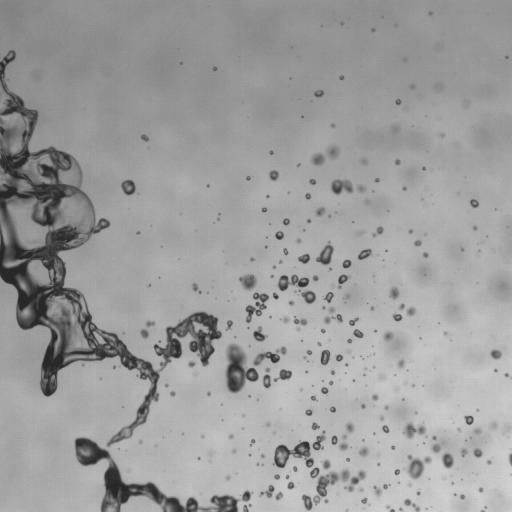droplet: (402, 454, 432, 487), (315, 240, 334, 265), (402, 421, 427, 439), (330, 179, 353, 195), (323, 306, 343, 324), (238, 273, 257, 291), (372, 483, 390, 499), (120, 179, 136, 195), (253, 326, 268, 341), (258, 484, 274, 498), (441, 451, 454, 468), (293, 316, 307, 331), (357, 248, 372, 260), (320, 349, 331, 365), (501, 423, 511, 438), (297, 253, 310, 264), (388, 286, 399, 299), (268, 169, 279, 181), (371, 226, 383, 237), (323, 291, 334, 303), (396, 357, 406, 370), (358, 446, 369, 457), (301, 157, 312, 168), (309, 164, 320, 175), (308, 198, 319, 209), (330, 254, 341, 265), (307, 258, 318, 269), (239, 265, 250, 276), (295, 266, 306, 277), (253, 282, 264, 293), (266, 282, 277, 293), (6, 285, 17, 296), (314, 287, 325, 298), (388, 300, 399, 311), (285, 306, 296, 317), (357, 307, 368, 318), (39, 326, 50, 337), (148, 332, 159, 343), (257, 341, 268, 352), (128, 344, 139, 355), (189, 350, 200, 361), (150, 355, 161, 366), (241, 358, 252, 369), (276, 358, 287, 369), (349, 358, 360, 369), (269, 364, 280, 375), (348, 365, 359, 376), (32, 366, 43, 377), (216, 373, 227, 384), (140, 378, 151, 389), (400, 385, 411, 396), (391, 424, 402, 435), (334, 425, 345, 436), (345, 433, 356, 444), (238, 442, 249, 453), (346, 446, 357, 457), (431, 452, 442, 463), (364, 453, 375, 464), (287, 454, 298, 465), (293, 455, 304, 466), (97, 458, 108, 469), (330, 462, 341, 473), (298, 464, 309, 475), (120, 473, 131, 484), (274, 479, 285, 490), (333, 479, 344, 490), (95, 484, 106, 495), (162, 486, 173, 497), (291, 486, 302, 497), (465, 487, 476, 498), (350, 489, 361, 500), (140, 493, 151, 504), (197, 496, 208, 507), (391, 497, 402, 508), (490, 349, 502, 359), (382, 331, 393, 341), (464, 414, 474, 425), (430, 443, 441, 453), (469, 198, 479, 208), (315, 206, 325, 216), (406, 306, 416, 316), (488, 421, 498, 431), (224, 320, 233, 331), (352, 329, 363, 338), (356, 184, 366, 193), (342, 259, 352, 268), (392, 312, 402, 321), (279, 315, 290, 323), (377, 372, 386, 381), (473, 448, 482, 457), (361, 497, 370, 506), (4, 63, 13, 72), (13, 87, 22, 96), (23, 100, 32, 109), (32, 125, 41, 134), (27, 143, 36, 152), (317, 145, 326, 154), (336, 151, 345, 160), (323, 156, 332, 165), (365, 179, 374, 188), (304, 183, 313, 192), (57, 249, 66, 258), (309, 250, 318, 259), (234, 281, 243, 290), (287, 283, 296, 292), (314, 295, 323, 304), (179, 310, 188, 319), (215, 321, 224, 330), (36, 349, 45, 358), (364, 357, 373, 366), (220, 358, 229, 367), (490, 358, 499, 367), (384, 367, 393, 376), (367, 370, 376, 379), (155, 383, 164, 392), (375, 398, 384, 407), (304, 399, 313, 408), (148, 400, 157, 409), (127, 411, 136, 420), (480, 425, 489, 434), (424, 427, 433, 436), (79, 429, 88, 438), (97, 440, 106, 449), (106, 445, 115, 454), (451, 452, 460, 461), (70, 457, 79, 466), (312, 458, 321, 467), (318, 467, 327, 476), (348, 468, 357, 477), (399, 470, 408, 479), (96, 476, 105, 485), (137, 476, 146, 485), (307, 488, 316, 497), (365, 489, 374, 498), (232, 490, 241, 499), (235, 500, 244, 509), (460, 447, 468, 457), (313, 90, 324, 97), (275, 230, 283, 239), (187, 359, 196, 367), (310, 422, 319, 430), (472, 427, 481, 435), (275, 491, 283, 500), (151, 505, 162, 511), (360, 505, 371, 511), (434, 83, 442, 91), (397, 303, 405, 311), (305, 407, 313, 415), (391, 125, 400, 132), (140, 134, 149, 141), (334, 354, 343, 361), (310, 394, 319, 401), (382, 424, 389, 433), (356, 230, 366, 236), (359, 158, 367, 165), (272, 292, 279, 300), (393, 385, 400, 393), (321, 387, 328, 395), (371, 393, 378, 401), (208, 448, 215, 456), (0, 99, 5, 110), (249, 438, 255, 447), (282, 218, 289, 225), (414, 240, 421, 247), (504, 372, 511, 379), (314, 83, 321, 90), (54, 143, 61, 150), (63, 146, 70, 153), (338, 174, 345, 181), (79, 184, 86, 191), (326, 188, 333, 195), (340, 188, 347, 195), (351, 188, 358, 195), (360, 191, 367, 198), (309, 212, 316, 219), (320, 212, 327, 219), (279, 224, 286, 231), (297, 231, 304, 238), (90, 232, 97, 239), (410, 233, 417, 240), (417, 245, 424, 252), (350, 256, 357, 263), (342, 267, 349, 274), (272, 275, 279, 282), (391, 280, 398, 287), (62, 281, 69, 288), (76, 285, 83, 292), (275, 288, 282, 295), (383, 288, 390, 295), (397, 288, 404, 295), (394, 297, 401, 304), (248, 298, 255, 305), (194, 305, 201, 312), (205, 308, 212, 315), (399, 308, 406, 315), (322, 309, 329, 316), (342, 315, 349, 322), (330, 318, 337, 325), (169, 320, 176, 327), (353, 322, 360, 329), (34, 323, 41, 330), (438, 324, 445, 331), (146, 326, 153, 333), (377, 329, 384, 336), (44, 333, 51, 340), (318, 333, 325, 340), (441, 335, 448, 342), (231, 337, 238, 344), (387, 338, 394, 345), (159, 340, 166, 347), (492, 343, 499, 350), (157, 354, 164, 361), (328, 354, 335, 361), (113, 355, 120, 362), (207, 355, 214, 362), (263, 357, 270, 364), (391, 357, 398, 364), (151, 363, 158, 370), (131, 367, 138, 374), (56, 368, 63, 375), (497, 368, 504, 375), (257, 370, 264, 377), (256, 376, 263, 383), (230, 391, 237, 398), (315, 391, 322, 398), (137, 396, 144, 403), (381, 409, 388, 416), (307, 415, 314, 422), (399, 420, 406, 427), (352, 422, 359, 429), (133, 425, 140, 432), (495, 426, 502, 433), (314, 428, 321, 435), (412, 431, 419, 438), (400, 433, 407, 440), (89, 434, 96, 441), (336, 436, 343, 443), (307, 437, 314, 444), (357, 441, 364, 448), (287, 443, 294, 450), (249, 446, 256, 453), (342, 449, 349, 456), (426, 449, 433, 456), (466, 449, 473, 456), (366, 450, 373, 457), (417, 453, 424, 460), (479, 454, 486, 461), (403, 458, 410, 465), (74, 461, 81, 468), (343, 462, 350, 469), (422, 462, 429, 469), (86, 463, 93, 470), (361, 464, 368, 471), (327, 465, 334, 472), (448, 465, 455, 472), (274, 466, 281, 473), (311, 477, 318, 484), (344, 478, 351, 485), (357, 479, 364, 486), (325, 483, 332, 490), (216, 489, 223, 496), (127, 495, 134, 502), (248, 495, 255, 502), (95, 497, 102, 504), (297, 499, 304, 506), (119, 502, 126, 509), (437, 132, 445, 138), (309, 506, 318, 511), (404, 506, 413, 511), (395, 98, 401, 105), (394, 158, 400, 165), (309, 179, 316, 185), (305, 192, 311, 199), (282, 248, 288, 255), (291, 465, 297, 472), (394, 468, 400, 475), (295, 238, 301, 244), (422, 252, 428, 258), (312, 275, 318, 281), (288, 300, 294, 306), (306, 349, 312, 355), (169, 390, 175, 396), (383, 404, 389, 410), (329, 406, 335, 412), (228, 433, 234, 439), (476, 249, 481, 256), (347, 338, 354, 343), (264, 421, 271, 426), (225, 474, 230, 481), (409, 84, 415, 89), (365, 199, 370, 205), (261, 207, 267, 212), (345, 349, 351, 354), (330, 369, 335, 375), (192, 370, 198, 375), (360, 403, 365, 409), (379, 415, 384, 421), (431, 435, 436, 441), (274, 474, 280, 479), (459, 494, 465, 499), (94, 507, 101, 511), (236, 507, 243, 511), (300, 507, 307, 511), (212, 66, 217, 71), (339, 75, 344, 80), (402, 186, 407, 191), (306, 218, 311, 223), (472, 225, 477, 230), (408, 229, 413, 234), (320, 328, 325, 333), (206, 391, 211, 396), (456, 427, 461, 432), (390, 445, 395, 450), (231, 448, 236, 453), (260, 453, 265, 458), (478, 487, 483, 492), (7, 45, 12, 50), (7, 86, 12, 91), (319, 95, 324, 100), (315, 96, 320, 101), (398, 103, 403, 108), (36, 114, 41, 119), (33, 124, 38, 129), (144, 131, 149, 136), (42, 144, 47, 149), (390, 157, 395, 162), (399, 159, 404, 164), (78, 161, 83, 166), (80, 166, 85, 171), (274, 166, 279, 171), (81, 170, 86, 175), (311, 174, 316, 179), (123, 175, 128, 180), (128, 175, 133, 180), (265, 175, 270, 180), (276, 176, 281, 181), (270, 179, 275, 184), (133, 181, 138, 186), (351, 183, 356, 188), (405, 183, 410, 188), (134, 186, 139, 191), (118, 188, 123, 193), (121, 192, 126, 197), (87, 193, 92, 198), (128, 193, 133, 198), (91, 200, 96, 205), (466, 203, 471, 208), (473, 206, 478, 211), (330, 212, 335, 217), (105, 215, 110, 220), (94, 216, 99, 221), (304, 222, 309, 227), (371, 227, 376, 232), (99, 228, 104, 233), (381, 230, 386, 235), (375, 233, 380, 238), (278, 238, 283, 243), (263, 239, 268, 244), (329, 241, 334, 246), (409, 242, 414, 247), (477, 243, 482, 248), (318, 245, 323, 250), (355, 249, 360, 254), (370, 249, 375, 254), (297, 251, 302, 256), (330, 253, 335, 258), (418, 253, 423, 258), (427, 253, 432, 258), (281, 254, 286, 259), (421, 256, 426, 261), (424, 256, 429, 261), (362, 257, 367, 262), (273, 260, 278, 265), (297, 260, 302, 265), (316, 261, 321, 266), (324, 263, 329, 268), (64, 264, 69, 269), (270, 268, 275, 273), (307, 275, 312, 280), (317, 275, 322, 280), (333, 279, 338, 284), (340, 282, 345, 287), (197, 284, 202, 289), (187, 285, 192, 290), (201, 288, 206, 293), (257, 289, 262, 294), (200, 291, 205, 296), (268, 294, 273, 299), (299, 296, 304, 301), (263, 300, 268, 305), (310, 301, 315, 306), (286, 304, 291, 309), (403, 304, 408, 309), (260, 308, 265, 313), (88, 309, 93, 314), (395, 309, 400, 314), (243, 310, 248, 315), (212, 312, 217, 317), (251, 312, 256, 317), (296, 314, 301, 319), (349, 314, 354, 319), (410, 314, 415, 319), (148, 316, 153, 321), (289, 316, 294, 321), (90, 317, 95, 322), (389, 317, 394, 322), (398, 319, 403, 324), (278, 320, 283, 325), (243, 321, 248, 326), (296, 322, 301, 327), (14, 323, 19, 328), (96, 323, 101, 328), (321, 323, 326, 328), (350, 325, 355, 330), (252, 326, 257, 331), (105, 327, 110, 332), (110, 328, 115, 333), (260, 329, 265, 334), (248, 331, 253, 336), (136, 332, 141, 337), (117, 334, 122, 339), (350, 334, 355, 339), (263, 337, 268, 342), (276, 344, 281, 349), (320, 345, 325, 350), (285, 346, 290, 351), (270, 348, 275, 353), (368, 348, 373, 353), (486, 348, 491, 353), (316, 352, 321, 357), (500, 353, 505, 358), (487, 354, 492, 359), (403, 357, 408, 362), (76, 359, 81, 364), (94, 359, 99, 364), (339, 359, 344, 364), (84, 360, 89, 365), (68, 362, 73, 367), (165, 362, 170, 367), (403, 363, 408, 368), (204, 364, 209, 369), (367, 364, 372, 369), (284, 365, 289, 370), (122, 366, 127, 371), (400, 367, 405, 372), (359, 368, 364, 373), (372, 368, 377, 373), (157, 370, 162, 375), (329, 374, 334, 379), (289, 375, 294, 380), (277, 378, 282, 383), (282, 378, 287, 383), (406, 381, 411, 386), (415, 382, 420, 387), (325, 383, 330, 388), (166, 386, 171, 391), (143, 389, 148, 394), (373, 389, 378, 394), (38, 391, 43, 396), (174, 391, 179, 396), (49, 393, 54, 398), (367, 393, 372, 398), (377, 394, 382, 399), (168, 395, 173, 400), (360, 398, 365, 403), (370, 399, 375, 404), (374, 415, 379, 420), (380, 420, 385, 425), (470, 422, 475, 427), (497, 422, 502, 427), (268, 425, 273, 430), (113, 428, 118, 433), (223, 432, 228, 437), (233, 433, 238, 438), (471, 433, 476, 438), (105, 436, 110, 441), (301, 436, 306, 441), (120, 438, 125, 443), (431, 439, 436, 444), (319, 440, 324, 445), (70, 441, 75, 446), (274, 441, 279, 446), (308, 446, 313, 451), (480, 447, 485, 452), (288, 453, 293, 458), (475, 456, 480, 461), (504, 456, 509, 461), (258, 457, 263, 462), (269, 457, 274, 462), (307, 466, 312, 471), (229, 472, 234, 477), (279, 474, 284, 479), (394, 474, 399, 479), (446, 477, 451, 482), (284, 478, 289, 483), (353, 483, 358, 488), (377, 483, 382, 488), (263, 485, 268, 490), (246, 486, 251, 491), (381, 488, 386, 493), (239, 489, 244, 494), (343, 489, 348, 494), (271, 490, 276, 495), (456, 490, 461, 495), (207, 493, 212, 498), (261, 493, 266, 498), (402, 494, 407, 499), (193, 495, 198, 500), (279, 496, 284, 501), (319, 496, 324, 501), (366, 497, 371, 502), (410, 498, 415, 503), (459, 498, 464, 503), (374, 178, 380, 182), (249, 257, 255, 261), (358, 487, 364, 491), (398, 507, 404, 511), (0, 54, 3, 61), (0, 277, 3, 284), (428, 11, 433, 15), (330, 123, 335, 127), (278, 259, 283, 263), (370, 306, 374, 311), (317, 341, 321, 346), (329, 380, 333, 385), (411, 383, 416, 387), (200, 434, 204, 439), (269, 150, 273, 154), (296, 163, 300, 167), (246, 176, 250, 180), (460, 247, 464, 251), (272, 265, 276, 269), (328, 267, 332, 271), (270, 274, 274, 278), (147, 283, 151, 287), (344, 362, 348, 366), (493, 368, 497, 372), (164, 383, 168, 387), (241, 413, 245, 417), (376, 452, 380, 456), (346, 457, 350, 461), (139, 439, 142, 444), (508, 54, 511, 59), (508, 371, 511, 376), (508, 431, 511, 436), (384, 508, 389, 511), (394, 508, 399, 511), (419, 508, 424, 511), (484, 508, 489, 511), (340, 21, 343, 25), (371, 28, 375, 31), (422, 166, 425, 170), (266, 194, 269, 198), (328, 214, 331, 218), (136, 231, 140, 234), (264, 245, 267, 249), (373, 329, 377, 332), (327, 338, 331, 341), (372, 365, 375, 369), (364, 366, 367, 370), (352, 378, 355, 382), (401, 397, 404, 401), (476, 408, 479, 412), (272, 431, 276, 434), (197, 456, 200, 460), (377, 462, 380, 466), (451, 481, 454, 485), (179, 61, 182, 64), (206, 184, 209, 187), (287, 191, 290, 194), (420, 197, 423, 200), (179, 212, 182, 215), (302, 228, 305, 231), (206, 291, 209, 294), (322, 306, 325, 309), (268, 315, 271, 318), (246, 326, 249, 329), (300, 339, 303, 342), (305, 370, 308, 373), (99, 377, 102, 380), (321, 379, 324, 382), (299, 388, 302, 391), (248, 394, 251, 397), (256, 398, 259, 401), (220, 403, 223, 406), (414, 411, 417, 414), (241, 427, 244, 430), (422, 441, 425, 444), (154, 444, 157, 447), (248, 453, 251, 456), (208, 460, 211, 463), (345, 508, 348, 511), (430, 8, 433, 11), (425, 12, 428, 15), (431, 13, 434, 16), (337, 23, 340, 26), (342, 23, 345, 26), (373, 25, 376, 28), (371, 31, 374, 34), (504, 52, 507, 55), (178, 58, 181, 61), (505, 58, 508, 61), (182, 61, 185, 64), (179, 64, 182, 67), (210, 64, 213, 67), (215, 64, 218, 67), (209, 68, 212, 71), (213, 70, 216, 73), (337, 72, 340, 75), (343, 75, 346, 78), (339, 79, 342, 82), (322, 89, 325, 92), (398, 96, 401, 99), (392, 101, 395, 104), (297, 114, 300, 117), (303, 114, 306, 117), (300, 117, 303, 120), (331, 120, 334, 123), (327, 124, 330, 127), (331, 127, 334, 130), (141, 139, 144, 142), (146, 140, 149, 143), (272, 149, 275, 152), (267, 153, 270, 156), (271, 153, 274, 156), (294, 161, 297, 164), (395, 164, 398, 167), (298, 165, 301, 168), (419, 165, 422, 168), (425, 166, 428, 169), (421, 169, 424, 172), (246, 172, 249, 175), (243, 174, 246, 177), (249, 174, 252, 177), (375, 174, 378, 177), (371, 177, 374, 180), (247, 179, 250, 182), (315, 180, 318, 183), (204, 181, 207, 184), (375, 181, 378, 184), (209, 183, 212, 186), (313, 183, 316, 186), (399, 185, 402, 188), (284, 189, 287, 192), (400, 189, 403, 192), (265, 191, 268, 194), (289, 191, 292, 194), (302, 192, 305, 195), (310, 193, 313, 196), (302, 196, 305, 199), (473, 196, 476, 199), (266, 197, 269, 200), (306, 198, 309, 201), (467, 198, 470, 201), (476, 198, 479, 201), (261, 204, 264, 207), (493, 204, 496, 207), (258, 208, 261, 211), (216, 209, 219, 212), (265, 210, 268, 213), (262, 211, 265, 214), (215, 214, 218, 217), (218, 215, 221, 218), (306, 215, 309, 218), (287, 216, 290, 219), (280, 217, 283, 220), (351, 217, 354, 220), (213, 218, 216, 221), (280, 221, 283, 224), (350, 222, 353, 225), (475, 223, 478, 226), (407, 226, 410, 229), (469, 226, 472, 229), (135, 228, 138, 231), (299, 228, 302, 231), (474, 229, 477, 232), (136, 233, 139, 236), (282, 234, 285, 237), (369, 234, 372, 237), (487, 234, 490, 237), (274, 237, 277, 240), (300, 237, 303, 240), (261, 244, 264, 247), (461, 244, 464, 247), (266, 246, 269, 249), (363, 246, 366, 249), (286, 247, 289, 250), (457, 247, 460, 250), (381, 248, 384, 251), (387, 248, 390, 251), (474, 248, 477, 251), (280, 251, 283, 254), (384, 251, 387, 254), (477, 251, 480, 254), (286, 253, 289, 256), (252, 255, 255, 258), (345, 256, 348, 259), (246, 257, 249, 260), (251, 260, 254, 263), (339, 263, 342, 266), (269, 264, 272, 267), (313, 272, 316, 275), (159, 274, 162, 277), (155, 277, 158, 280), (145, 282, 148, 285), (150, 282, 153, 285), (330, 289, 333, 292), (84, 296, 87, 299), (276, 297, 279, 300), (330, 298, 333, 301), (345, 298, 348, 301), (324, 299, 327, 302), (367, 306, 370, 309), (373, 306, 376, 309), (271, 315, 274, 318), (267, 317, 270, 320), (230, 318, 233, 321), (306, 320, 309, 323), (395, 320, 398, 323), (439, 321, 442, 324), (435, 323, 438, 326), (230, 324, 233, 327), (372, 326, 375, 329), (317, 328, 320, 331), (359, 328, 362, 331), (444, 328, 447, 331), (319, 331, 322, 334), (372, 331, 375, 334), (440, 331, 443, 334), (362, 334, 365, 337), (420, 334, 423, 337), (299, 336, 302, 339), (415, 336, 418, 339), (302, 337, 305, 340), (418, 339, 421, 342), (344, 340, 347, 343), (299, 341, 302, 344), (348, 342, 351, 345), (282, 343, 285, 346), (366, 351, 369, 354), (340, 352, 343, 355), (350, 352, 353, 355), (374, 352, 377, 355), (305, 353, 308, 356), (361, 354, 364, 357), (371, 355, 374, 358), (358, 356, 361, 359), (303, 359, 306, 362), (361, 359, 364, 362), (347, 361, 350, 364), (374, 363, 377, 366), (343, 365, 346, 368), (491, 366, 494, 369), (305, 367, 308, 370), (496, 367, 499, 370), (111, 368, 114, 371), (334, 369, 337, 372), (301, 370, 304, 373), (364, 370, 367, 373), (493, 371, 496, 374), (305, 372, 308, 375), (359, 372, 362, 375), (344, 373, 347, 376), (362, 375, 365, 378), (393, 375, 396, 378), (506, 376, 509, 379), (349, 379, 352, 382), (354, 379, 357, 382), (411, 380, 414, 383), (167, 381, 170, 384), (308, 384, 311, 387), (261, 385, 264, 388), (268, 385, 271, 388), (413, 386, 416, 389), (204, 390, 207, 393), (210, 391, 213, 394), (326, 391, 329, 394), (204, 393, 207, 396), (250, 393, 253, 396), (322, 393, 325, 396), (207, 395, 210, 398), (257, 395, 260, 398), (399, 395, 402, 398), (404, 396, 407, 399), (401, 400, 404, 403), (217, 401, 220, 404), (358, 402, 361, 405), (387, 403, 390, 406), (328, 404, 331, 407), (364, 404, 367, 407), (219, 405, 222, 408), (334, 405, 337, 408), (358, 405, 361, 408), (477, 405, 480, 408), (306, 406, 309, 409), (120, 407, 123, 410), (363, 407, 366, 410), (387, 407, 390, 410), (331, 411, 334, 414), (468, 412, 471, 415), (305, 414, 308, 417), (217, 418, 220, 421), (462, 418, 465, 421), (472, 419, 475, 422), (309, 422, 312, 425), (465, 423, 468, 426), (263, 425, 266, 428), (379, 425, 382, 428), (387, 425, 390, 428), (388, 428, 391, 431), (454, 429, 457, 432), (369, 431, 372, 434), (183, 432, 186, 435), (203, 433, 206, 436), (360, 435, 363, 438), (435, 435, 438, 438), (203, 436, 206, 439), (466, 437, 469, 440), (229, 438, 232, 441), (254, 438, 257, 441), (364, 438, 367, 441), (247, 440, 250, 443), (391, 442, 394, 445), (347, 443, 350, 446), (394, 446, 397, 449), (229, 447, 232, 450), (388, 447, 391, 450), (235, 448, 238, 451), (391, 449, 394, 452), (258, 451, 261, 454), (250, 452, 253, 455), (245, 453, 248, 456), (346, 454, 349, 457), (199, 455, 202, 458), (194, 457, 197, 460), (342, 457, 345, 460), (349, 458, 352, 461), (490, 458, 493, 461), (197, 459, 200, 462), (376, 459, 379, 462), (253, 461, 256, 464), (373, 462, 376, 465), (379, 463, 382, 466), (488, 463, 491, 466), (296, 467, 299, 470), (290, 468, 293, 471), (391, 471, 394, 474), (222, 477, 225, 480), (229, 477, 232, 480), (427, 479, 430, 482), (453, 480, 456, 483), (385, 481, 388, 484), (293, 482, 296, 485), (396, 483, 399, 486), (448, 483, 451, 486), (452, 483, 455, 486), (479, 484, 482, 487), (387, 485, 390, 488), (291, 487, 294, 490), (475, 487, 478, 490), (482, 487, 485, 490), (415, 488, 418, 491), (419, 490, 422, 493), (461, 491, 464, 494), (479, 491, 482, 494), (325, 502, 328, 505), (360, 502, 363, 505), (485, 503, 488, 506), (426, 504, 429, 507), (481, 506, 484, 509), (342, 508, 345, 511), (362, 438, 364, 442), (453, 493, 457, 495), (505, 56, 508, 58), (301, 115, 303, 118), (371, 190, 374, 192), (268, 223, 271, 225), (265, 236, 268, 238), (385, 249, 387, 252), (376, 254, 379, 256), (233, 336, 236, 338), (394, 373, 396, 376), (121, 405, 124, 407), (181, 432, 183, 435), (373, 432, 375, 435), (425, 507, 428, 509), (347, 509, 350, 511), (425, 509, 428, 511), (289, 77, 291, 79), (494, 208, 496, 210), (335, 211, 337, 213), (424, 233, 426, 235), (160, 245, 162, 247), (158, 276, 160, 278), (437, 322, 439, 324), (122, 332, 124, 334), (419, 337, 421, 339), (248, 345, 250, 347), (371, 345, 373, 347), (352, 356, 354, 358), (406, 369, 408, 371), (344, 372, 346, 374), (363, 373, 365, 375), (365, 384, 367, 386), (279, 408, 281, 410), (221, 419, 223, 421), (465, 439, 467, 441), (117, 448, 119, 450), (258, 448, 260, 450), (509, 473, 511, 475), (428, 477, 430, 479), (461, 478, 463, 480), (387, 210, 389, 211), (352, 221, 354, 222), (486, 235, 487, 237), (312, 384, 313, 386), (422, 384, 423, 386), (228, 300, 229, 301)
ligament: (245, 291, 269, 323), (310, 144, 340, 166), (330, 274, 351, 289), (140, 320, 155, 339), (403, 498, 420, 511), (285, 473, 296, 489), (191, 282, 201, 294), (348, 316, 359, 326), (443, 331, 452, 341), (385, 504, 395, 511), (508, 448, 511, 466), (216, 212, 221, 221), (480, 505, 487, 511), (367, 352, 375, 357), (303, 356, 309, 362), (256, 462, 263, 466), (416, 488, 420, 495), (360, 355, 363, 360), (441, 476, 446, 479), (396, 481, 400, 483), (476, 282, 478, 283)
